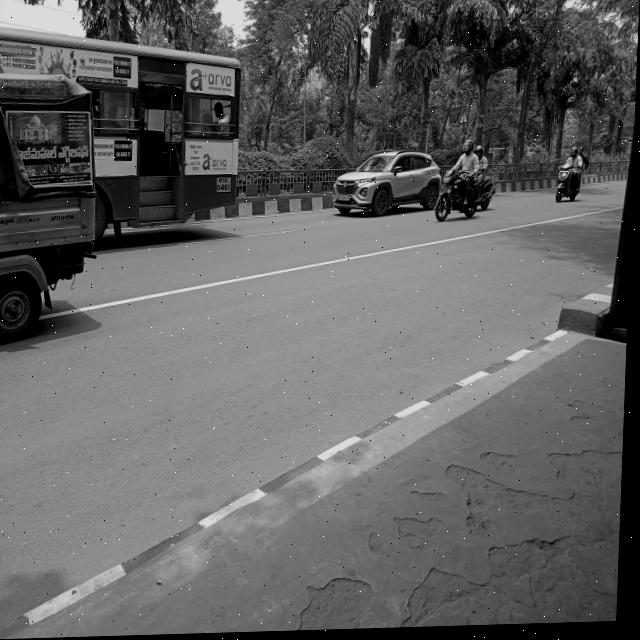bike: (439, 164, 486, 229), (554, 166, 588, 210)
bus: (70, 32, 268, 247)
car: (314, 148, 445, 229)
